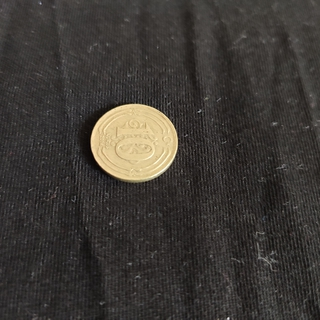10KURUS: (88, 100, 179, 184)
